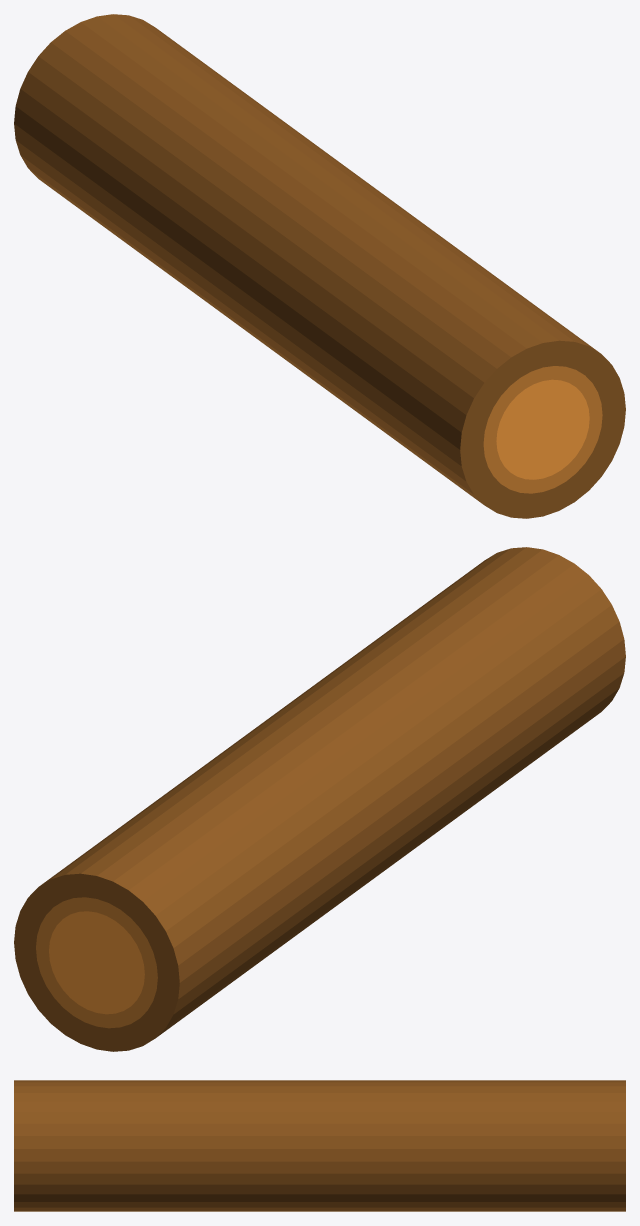
File: kalassol.fbx
3 renders of one model, top to bottom at view 1: azimuth 30°, elevation 25°; view 2: azimuth 150°, elevation 25°; view 3: azimuth 270°, elevation 25°, orthographic. The views are drawn at different scales.
Parts seen in each view (by area): view 1: Cylinder; view 2: Cylinder; view 3: Cylinder.
Boxes of the visible parts, x1,y1,x2,y2 form: Cylinder: (14, 14, 625, 518); Cylinder: (14, 547, 625, 1051); Cylinder: (14, 1080, 625, 1211).
Size of the model in its own units: 200 by 200 by 932.
